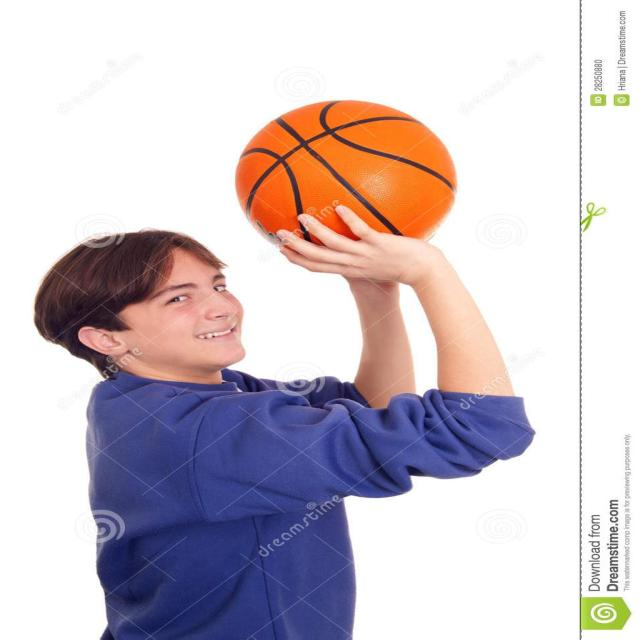Face: (99, 253, 264, 384)
